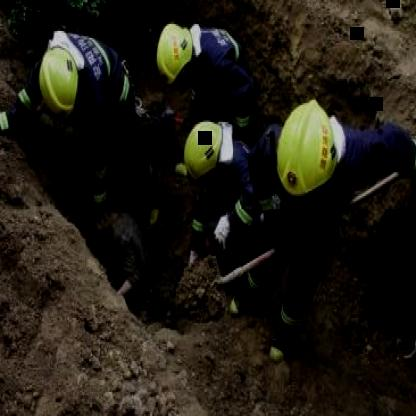head: (84, 196, 116, 246)
helmet: (273, 101, 345, 203), (154, 19, 202, 98), (38, 40, 86, 118), (180, 121, 226, 192)
